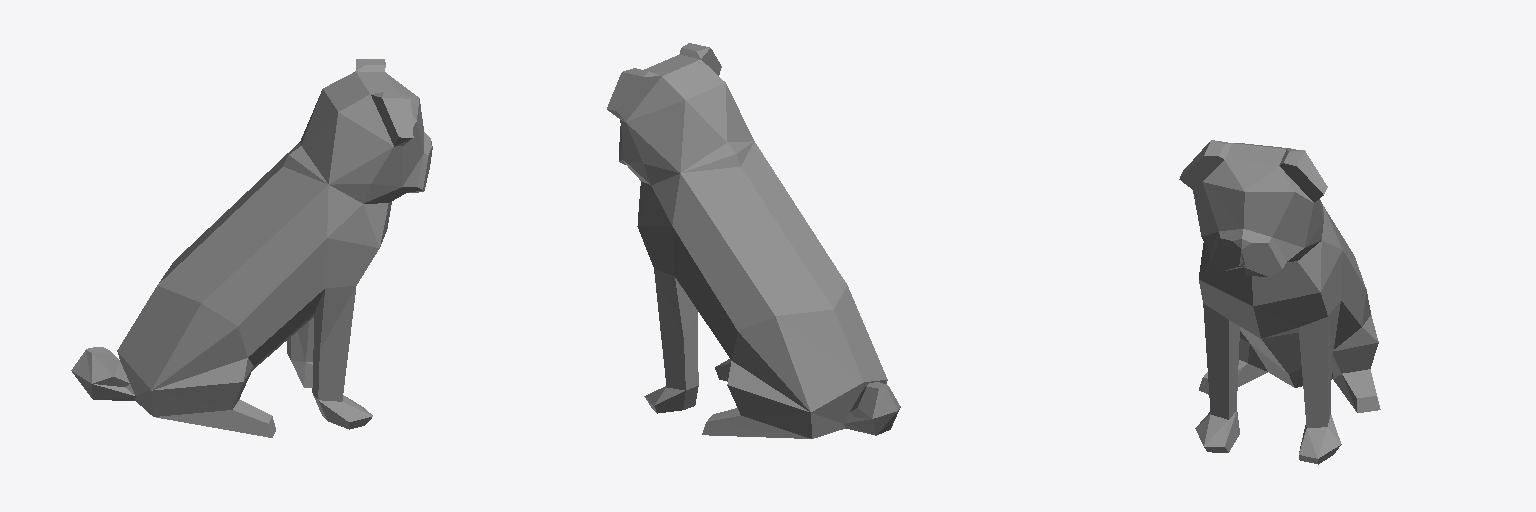
File: Dog.obj
The picture shows the model from 3 angles: view 1: azimuth 30°, elevation 25°; view 2: azimuth 150°, elevation 25°; view 3: azimuth 270°, elevation 25°; orthographic projection.
Visible parts, largest first — view 1: Dog_<STL_BINARY>.001; view 2: Dog_<STL_BINARY>.001; view 3: Dog_<STL_BINARY>.001.
Part boxes in pixels (left/top/right/bottom): Dog_<STL_BINARY>.001: left=71, top=59, right=432, bottom=437; Dog_<STL_BINARY>.001: left=607, top=43, right=900, bottom=438; Dog_<STL_BINARY>.001: left=1179, top=140, right=1380, bottom=464.
Bounding box in the file's own units: 1.84 × 1.79 × 1.02.